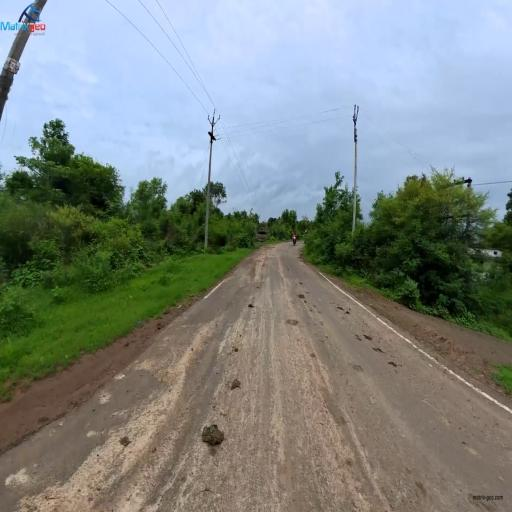ravelling: (272, 344, 379, 487)
